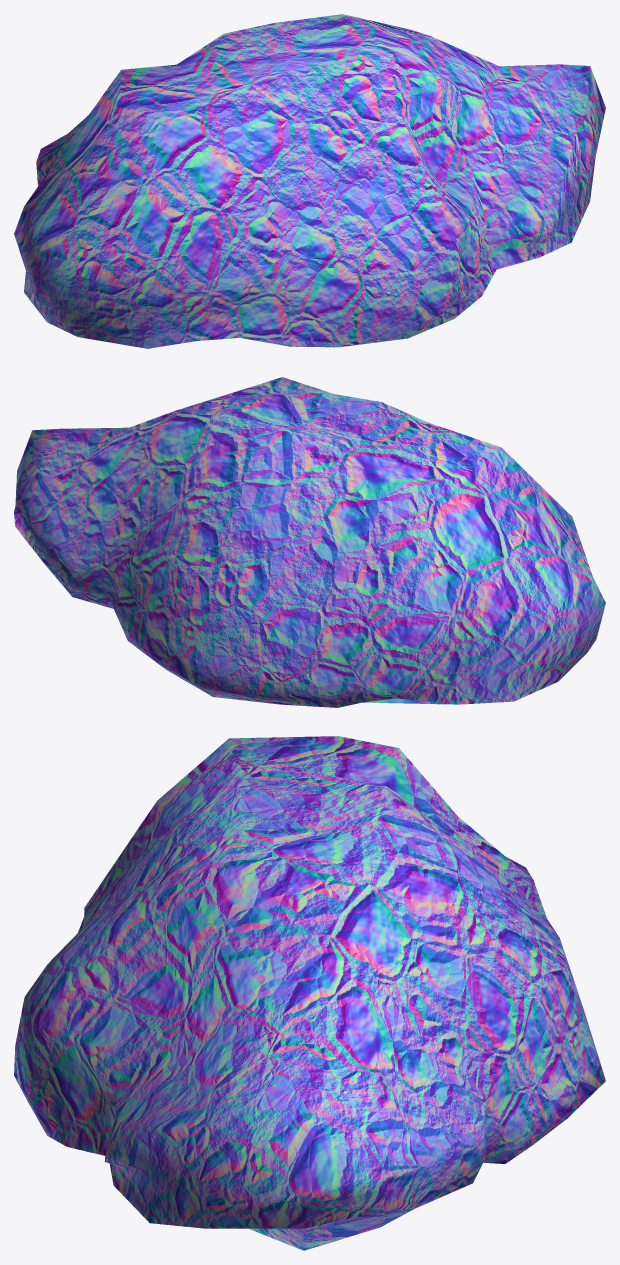
The model's file is peanaMineral.FBX.
3 views of the same model, one above another, from view 1: azimuth 30°, elevation 25°; view 2: azimuth 150°, elevation 25°; view 3: azimuth 270°, elevation 25° (orthographic). The views are drawn at different scales.
Parts seen in each view (by area): view 1: peanaFIFA; view 2: peanaFIFA; view 3: peanaFIFA.
Boxes of the visible parts, x1,y1,x2,y2 form: peanaFIFA: [14, 14, 605, 348]; peanaFIFA: [14, 377, 605, 707]; peanaFIFA: [14, 736, 605, 1250].
Size of the model in its own units: 49.22 by 18.87 by 33.47.
